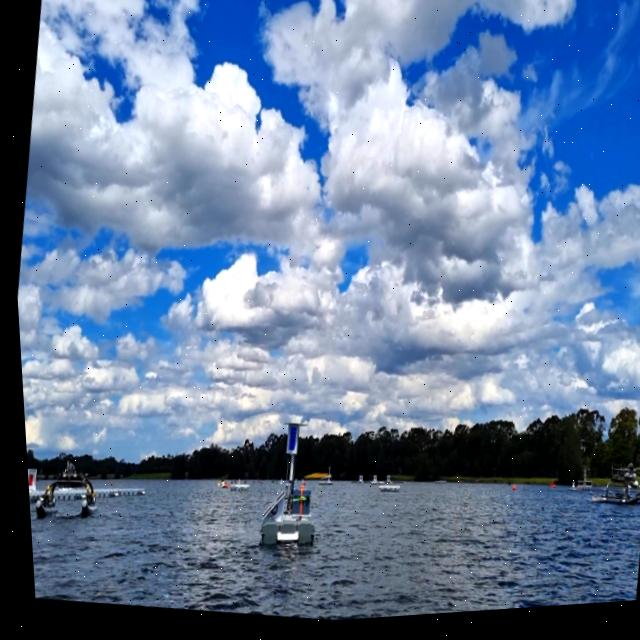led: (281, 429, 294, 457)
